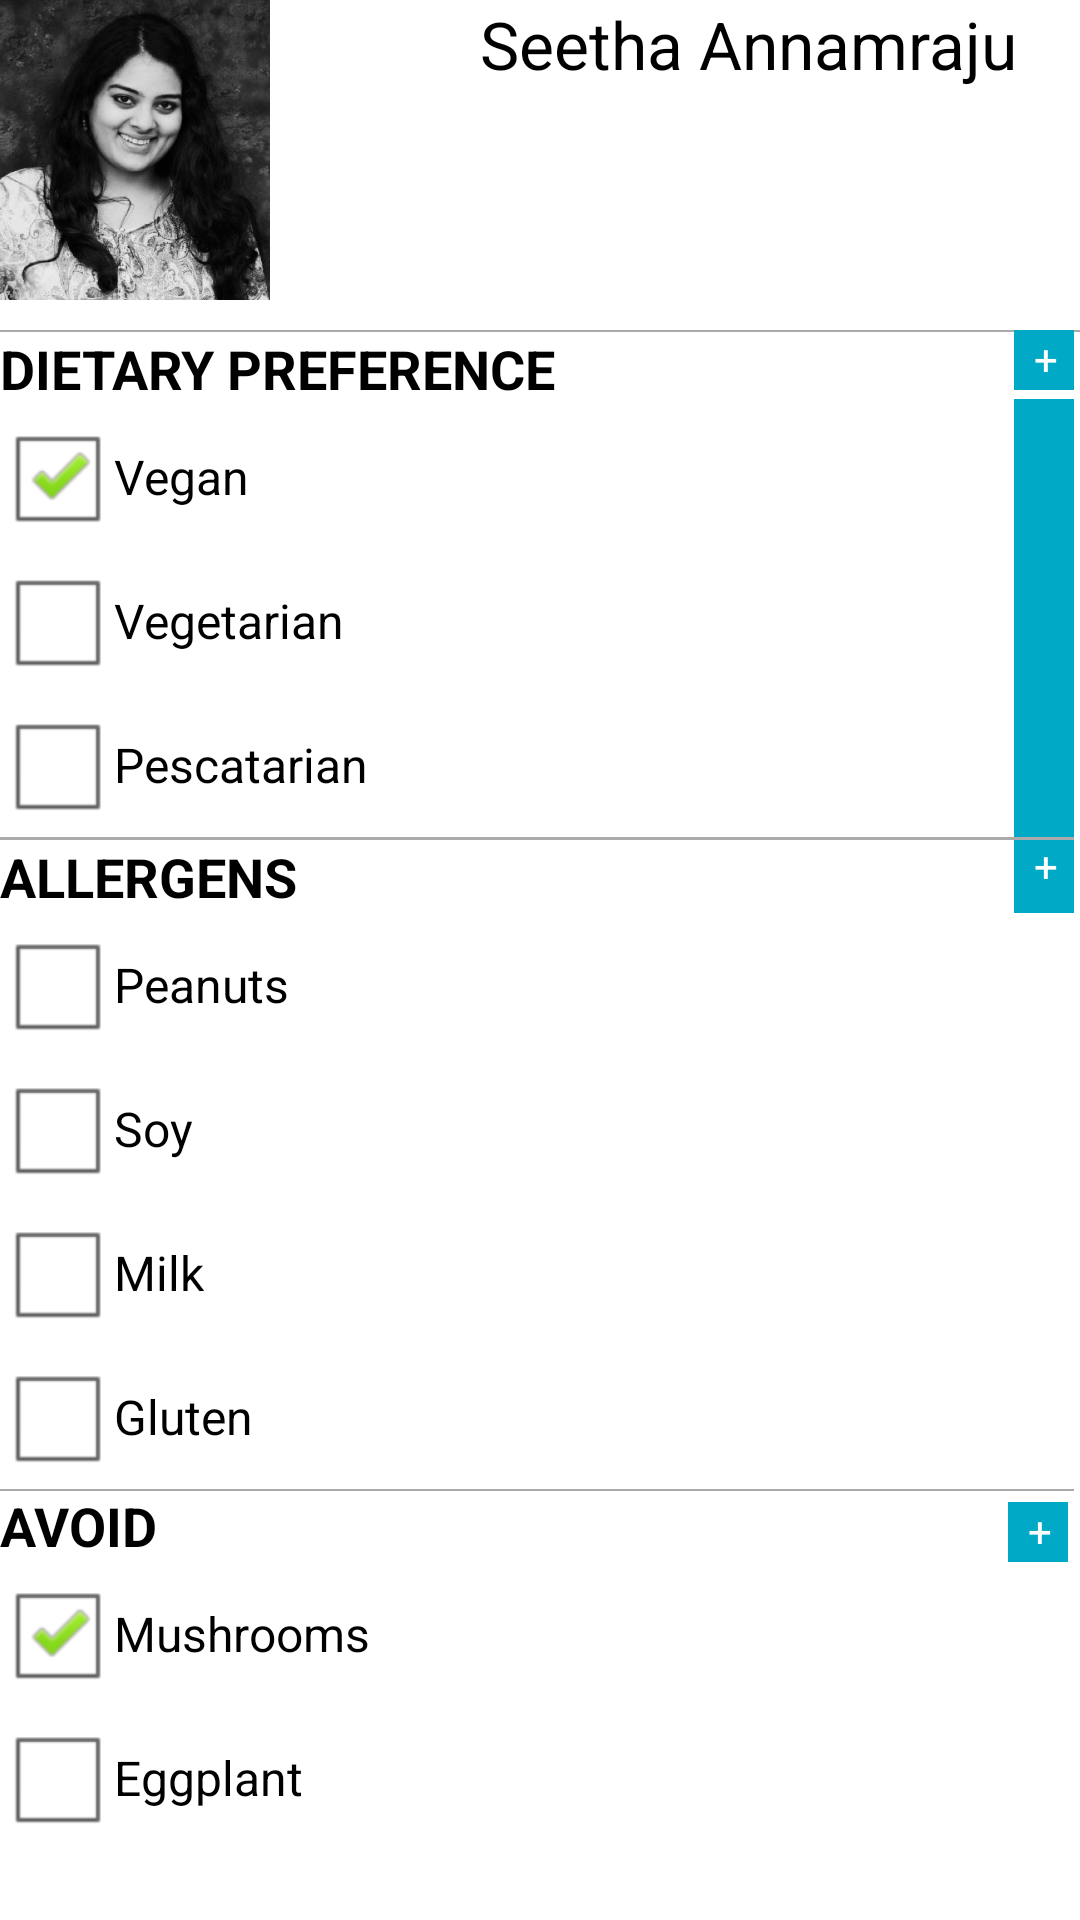

Locate icon controls on the screen. Image size 1080w x 1920h, boxes as {"left": x1, "top": y1, "right": x2, "bottom": y2}.
mypic: {"left": 0, "top": 0, "right": 270, "bottom": 300}
